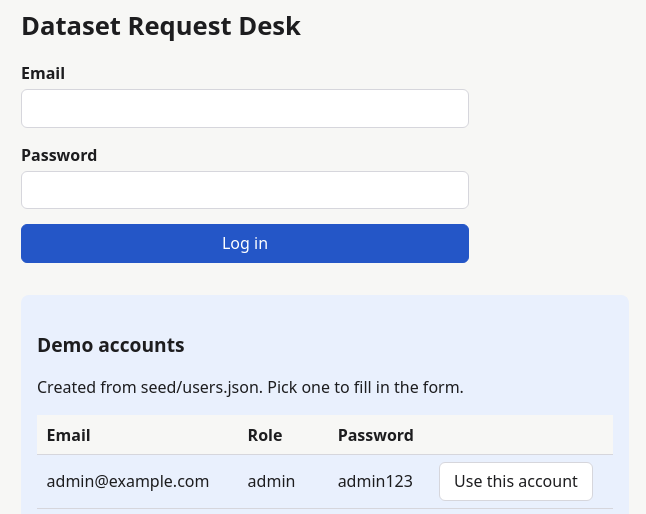
login › shows the server's message on a wrong password
In the field labelled "Email": {"x": 245, "y": 109} [21,89,469,128], type "client-a@example.com"
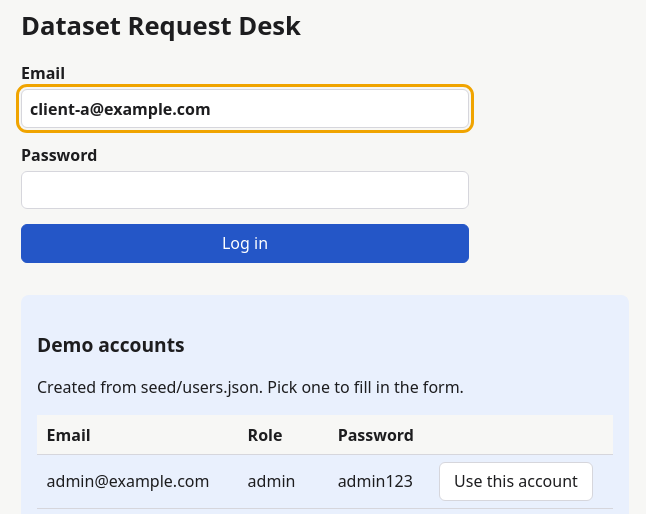
In the password field labelled "Password": {"x": 245, "y": 190} [21,171,469,209], type "wrong-password"
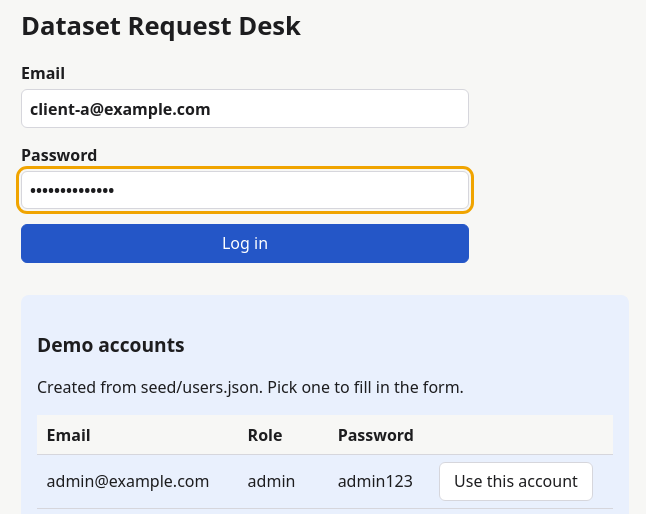
Click the button "Log in": {"x": 245, "y": 243} [21,224,469,262]
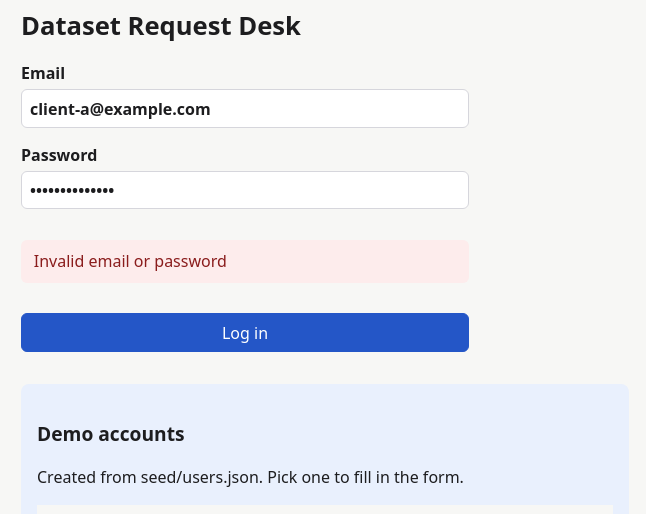
Result: the message reads "Invalid email or password" at [34,250,227,272]
